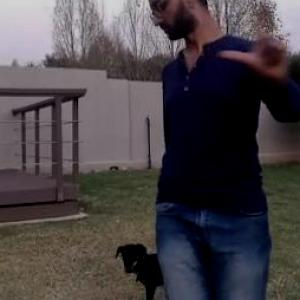land_hand: (218, 0, 290, 76)
